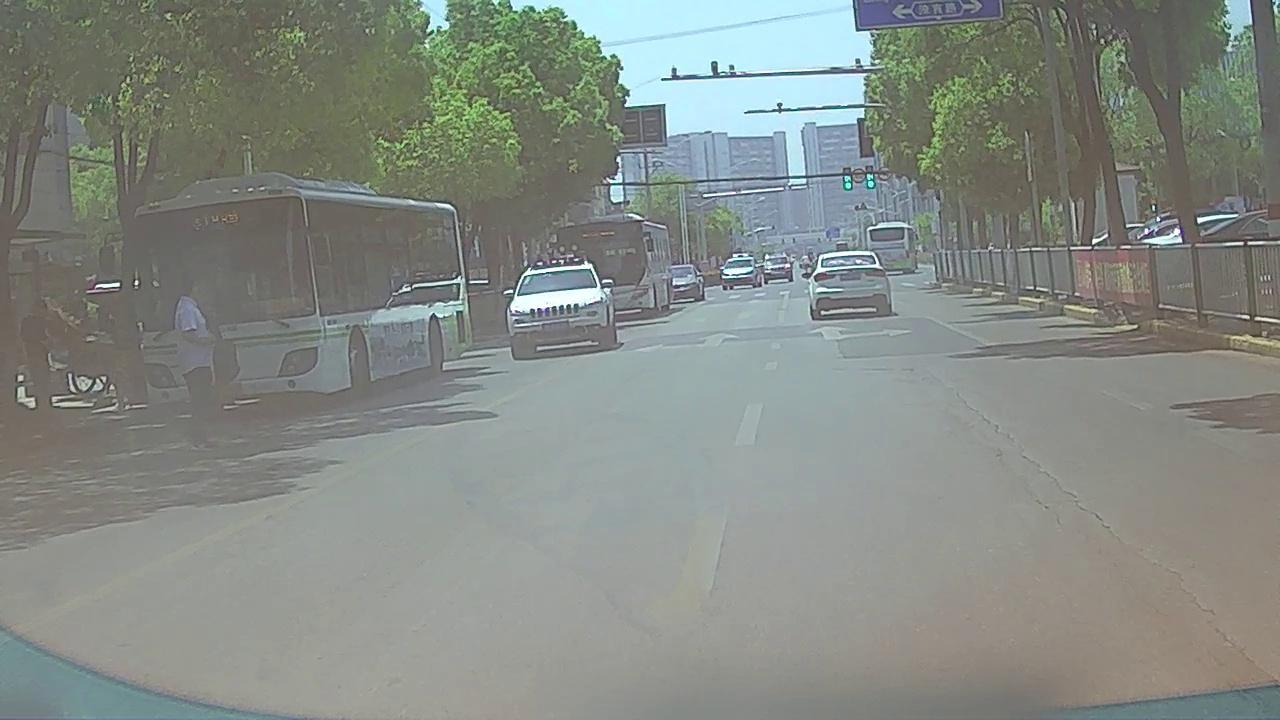traffic_light: (844, 168, 852, 190), (867, 167, 875, 189)
